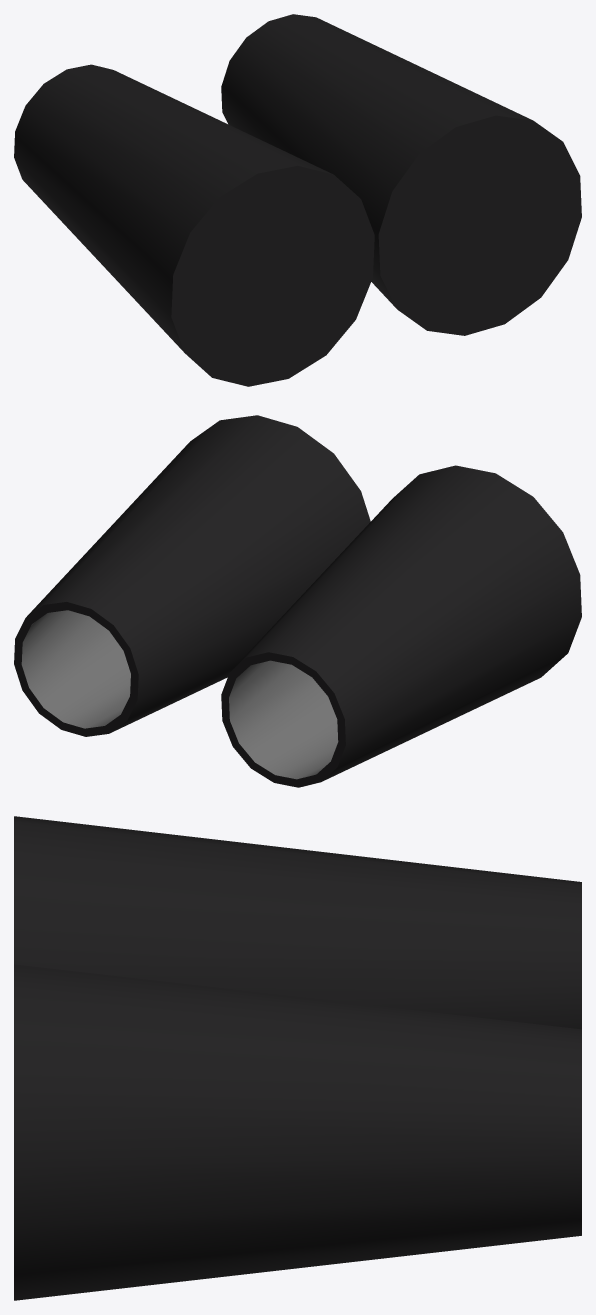
File: 5_Thruster.fbx
The picture shows the model from 3 angles, top to bottom: view 1: azimuth 30°, elevation 25°; view 2: azimuth 150°, elevation 25°; view 3: azimuth 270°, elevation 25°; orthographic projection. The views are drawn at different scales.
Parts seen in each view (by area): view 1: 5_Thruster; view 2: 5_Thruster; view 3: 5_Thruster.
Part boxes in pixels (box(x1,y1,x2,y2)): 5_Thruster: box(14, 14, 581, 386); 5_Thruster: box(14, 415, 581, 787); 5_Thruster: box(14, 816, 581, 1300).
Bounding box in the file's own units: 0.4696 × 0.2326 × 0.3897.
1 material, 1 textured.
